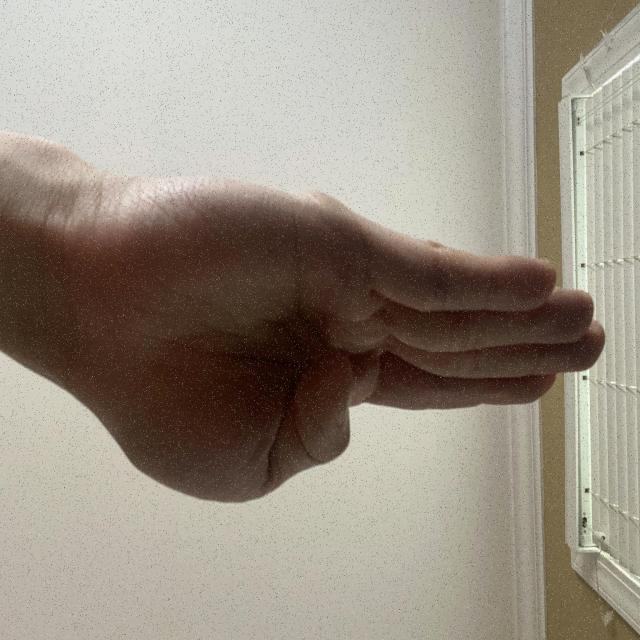B: (285, 41, 546, 640)
